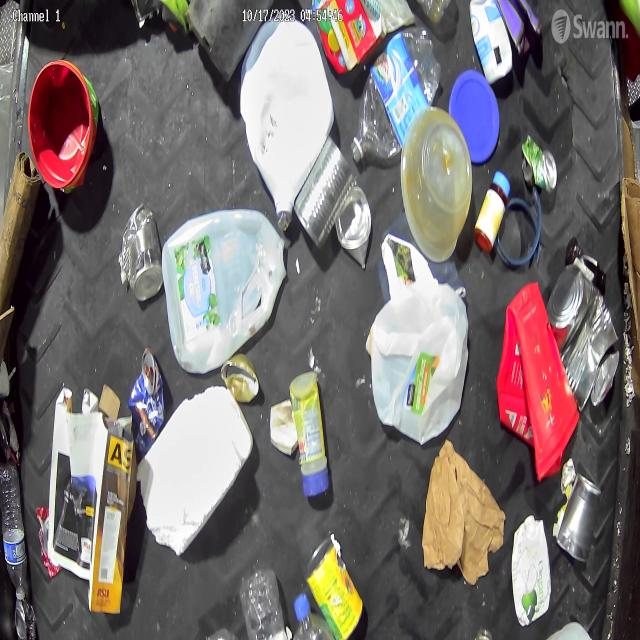can: (294, 138, 358, 252), (304, 535, 365, 640), (119, 207, 163, 306), (555, 475, 603, 564), (129, 349, 166, 440), (334, 184, 372, 268), (520, 134, 558, 192), (222, 354, 258, 402), (13, 599, 38, 640)
milk_jug: (162, 208, 287, 374), (369, 282, 468, 448)
non_white_jug: (499, 283, 576, 468), (511, 514, 552, 625)
plastic_bottle: (350, 24, 441, 165), (0, 461, 28, 601), (241, 566, 292, 640)
